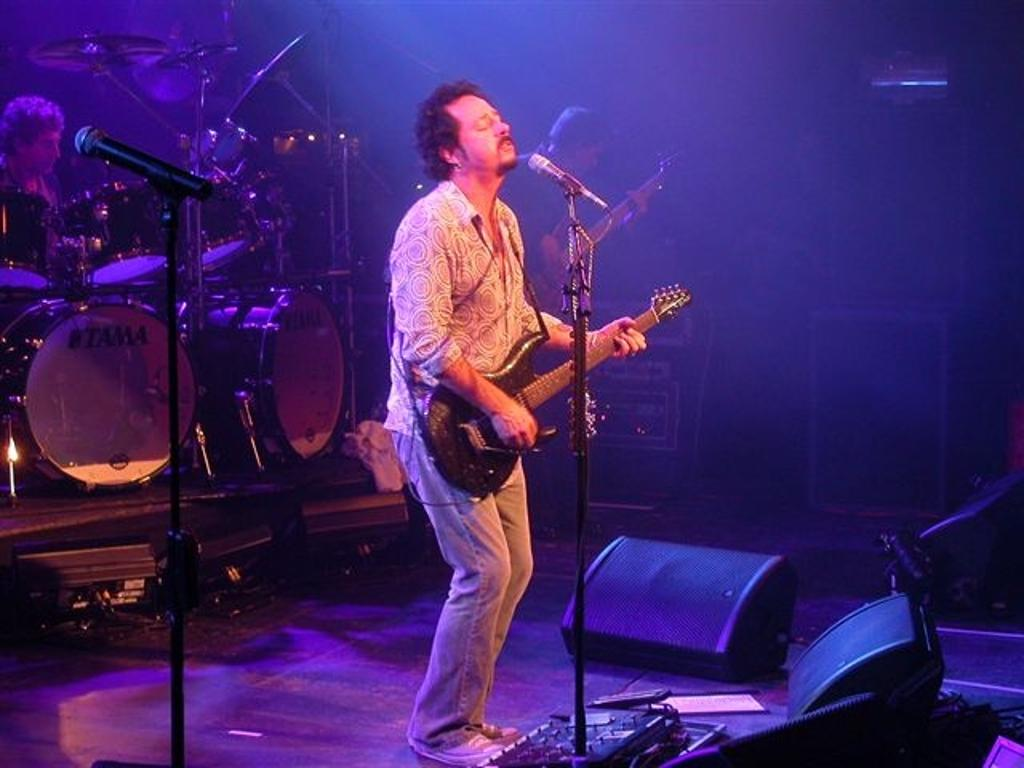face: (457, 97, 516, 167), (29, 126, 60, 173)
